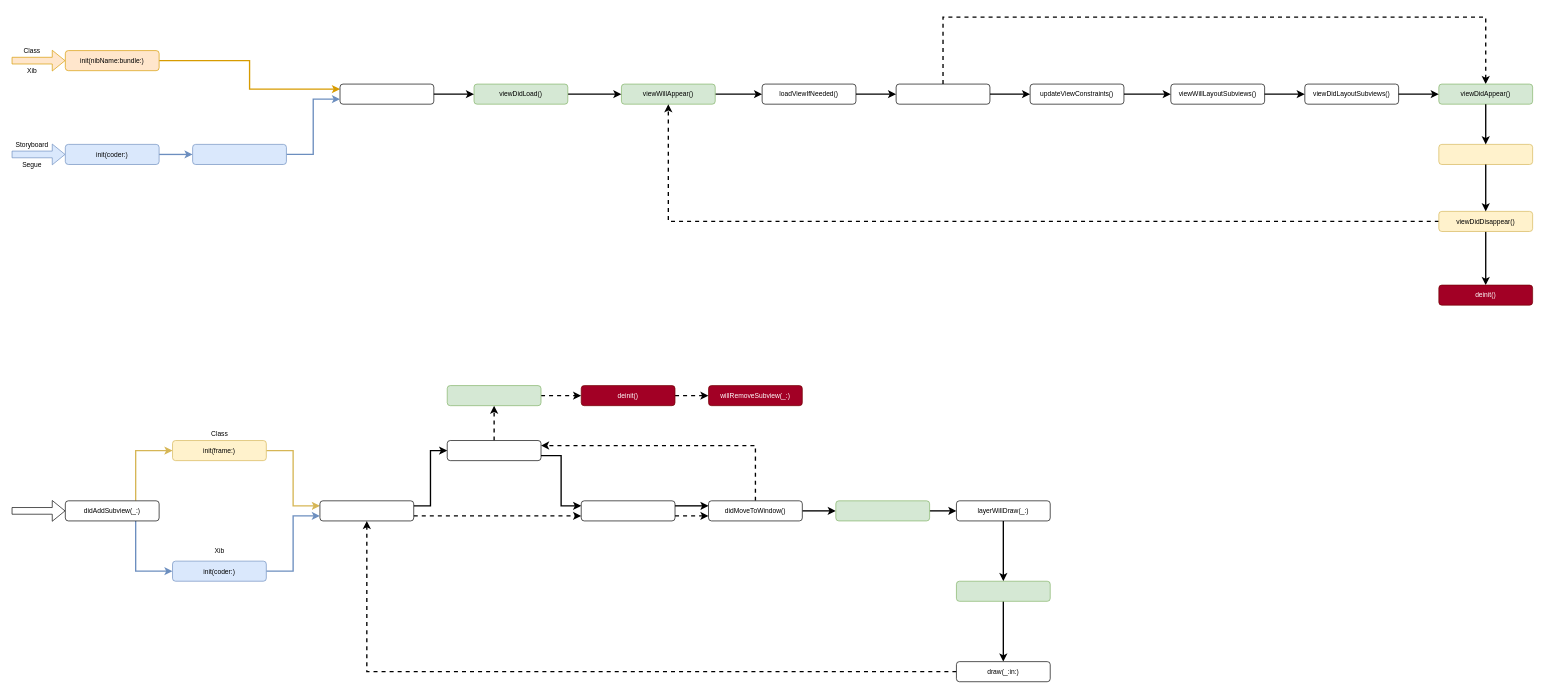
This 1544x693 diagram has some shape labels left out. The shapes that lost their labels are listed below. From the top down, each one's box as (x1, y1, x2, y2) in pixels, then its label:
(339, 83, 434, 104): loadView()
(895, 83, 990, 104): setNeedsFocusUpdate()
(192, 144, 286, 164): awakeFromNib()
(1438, 144, 1533, 164): viewWillDisappear()
(447, 385, 541, 406): removeFromSuperview()
(447, 440, 541, 461): didMoveToSuperview()
(319, 500, 414, 521): willMove(toSuperview:)
(581, 500, 675, 521): willMove(toWindow:)
(835, 500, 930, 521): updateConstraints()
(956, 581, 1050, 601): draw(_:)
